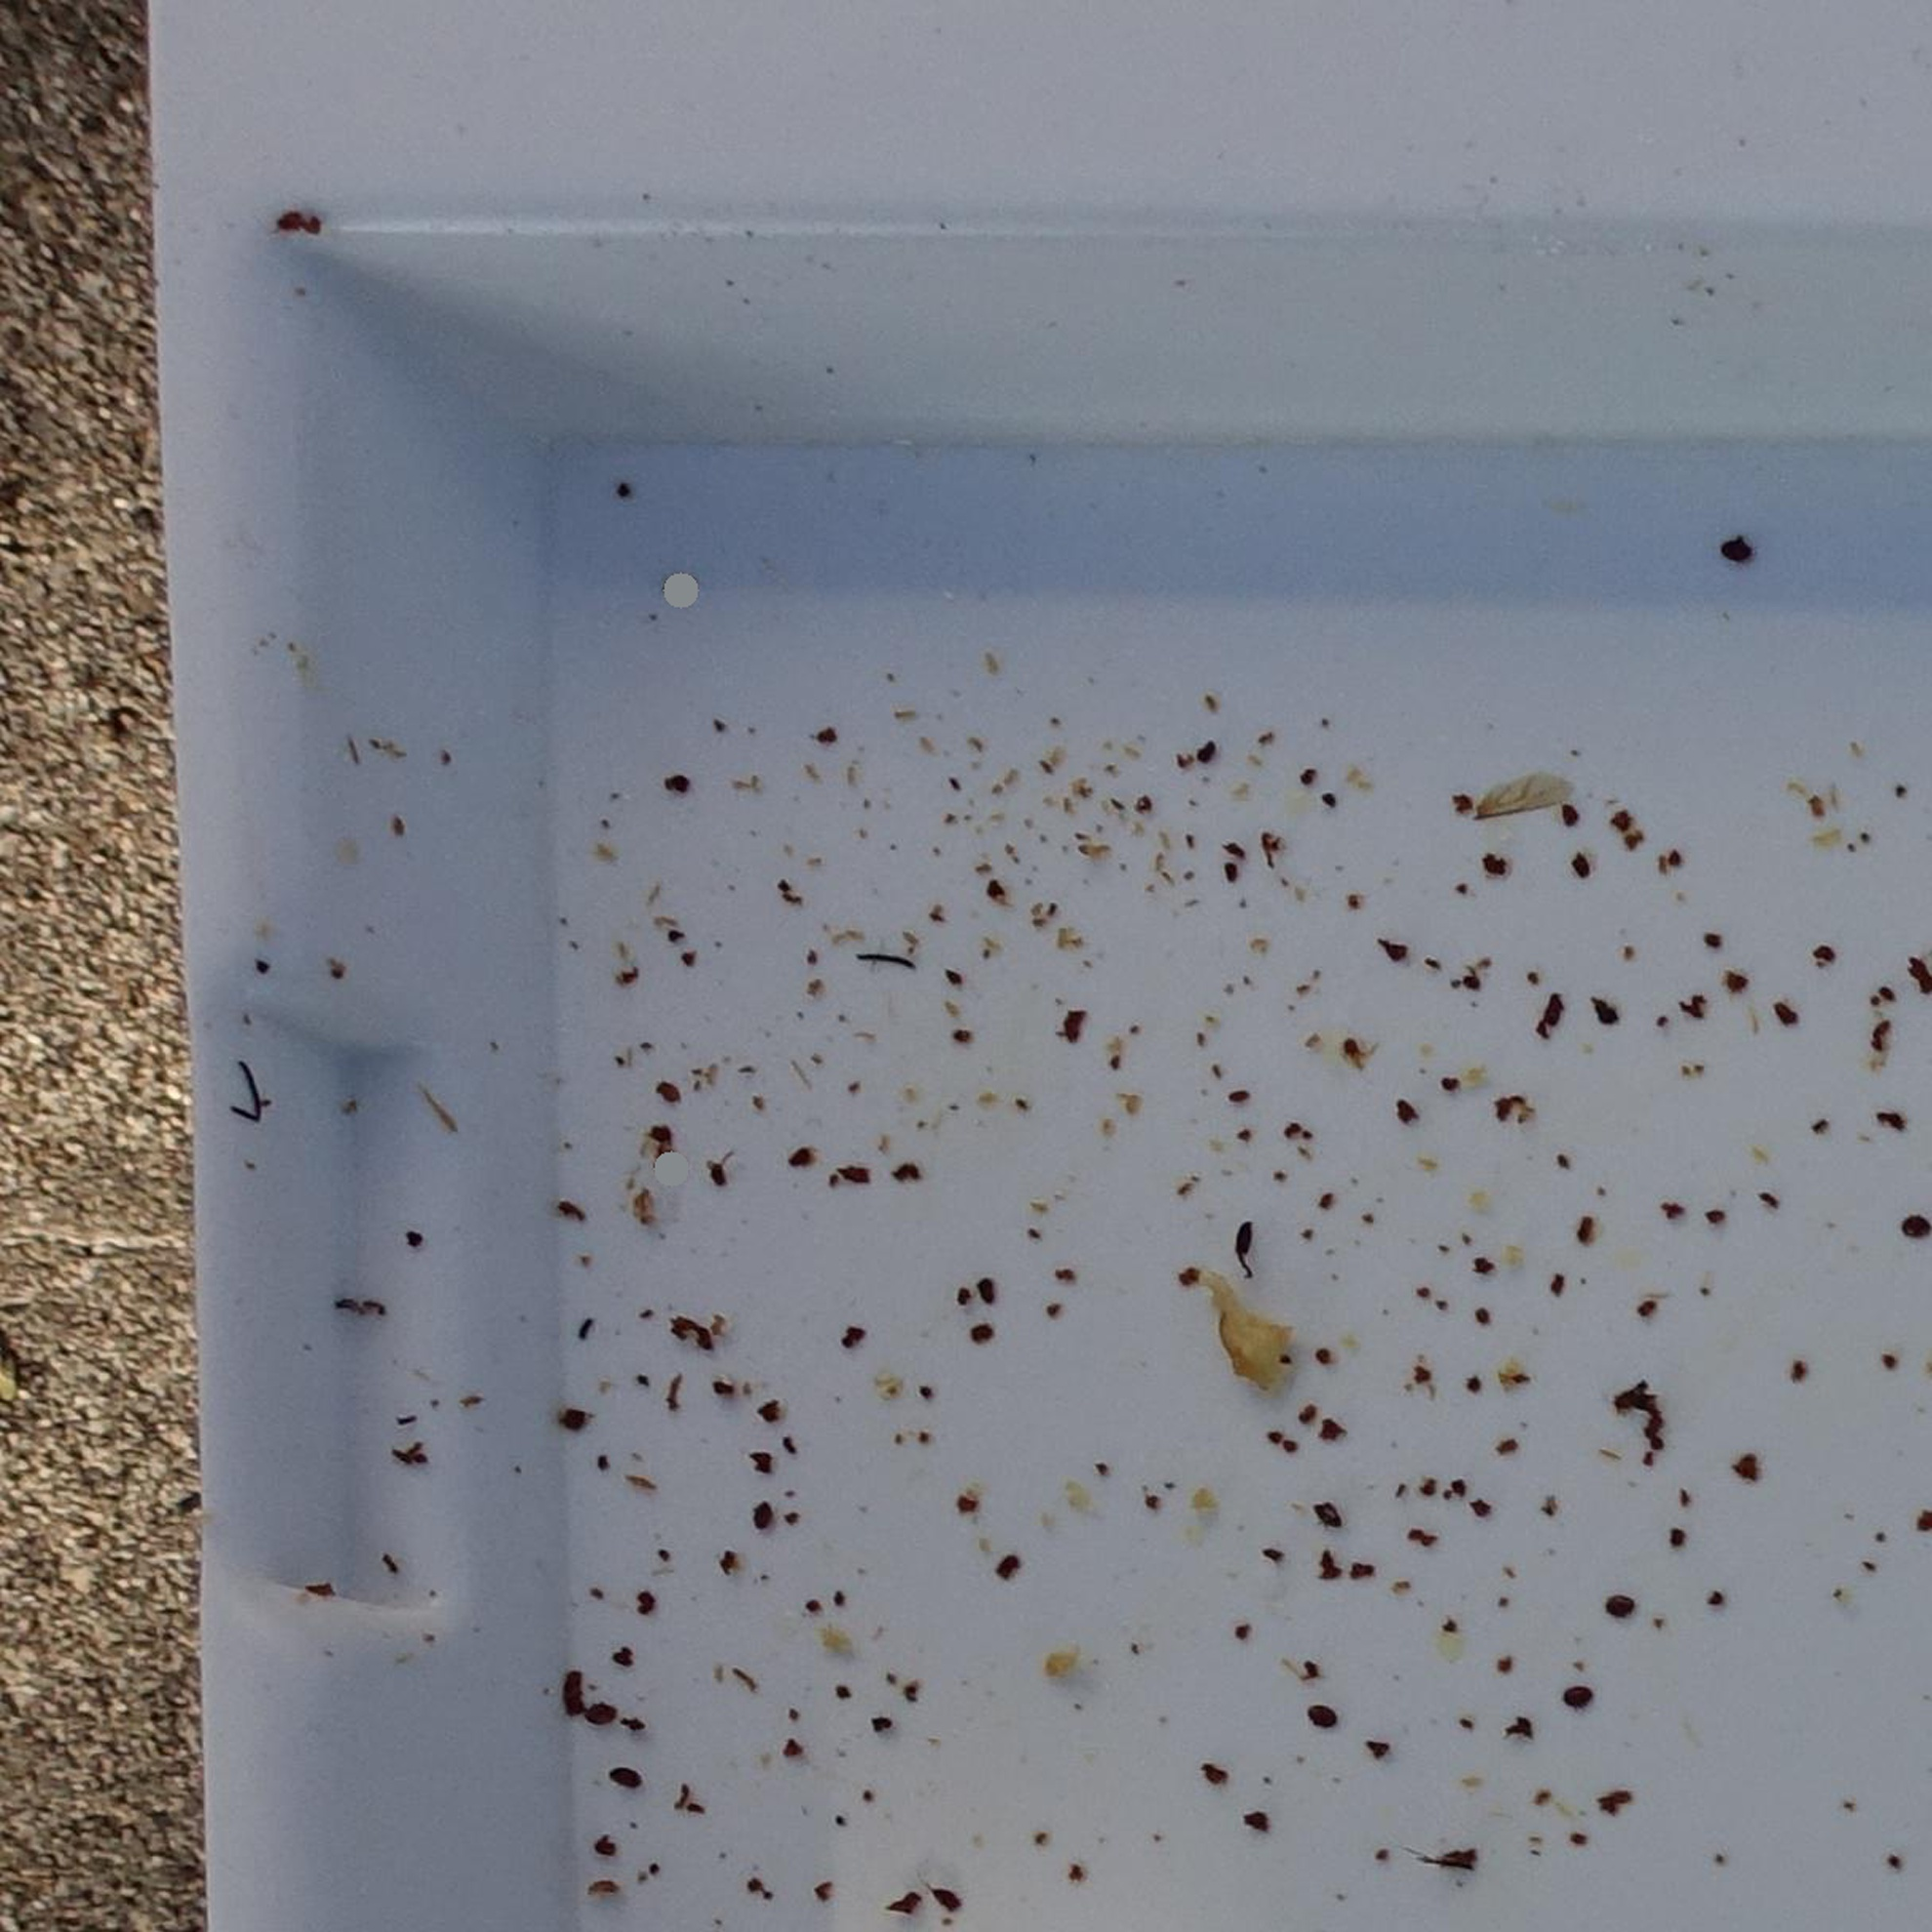Varroa: (1304, 1493, 1350, 1537), (1714, 529, 1759, 573), (1905, 1217, 1927, 1237), (591, 1704, 610, 1725), (754, 1506, 773, 1527), (1569, 1688, 1587, 1706), (619, 1767, 637, 1785), (1316, 1706, 1332, 1725), (1614, 1596, 1629, 1614)
